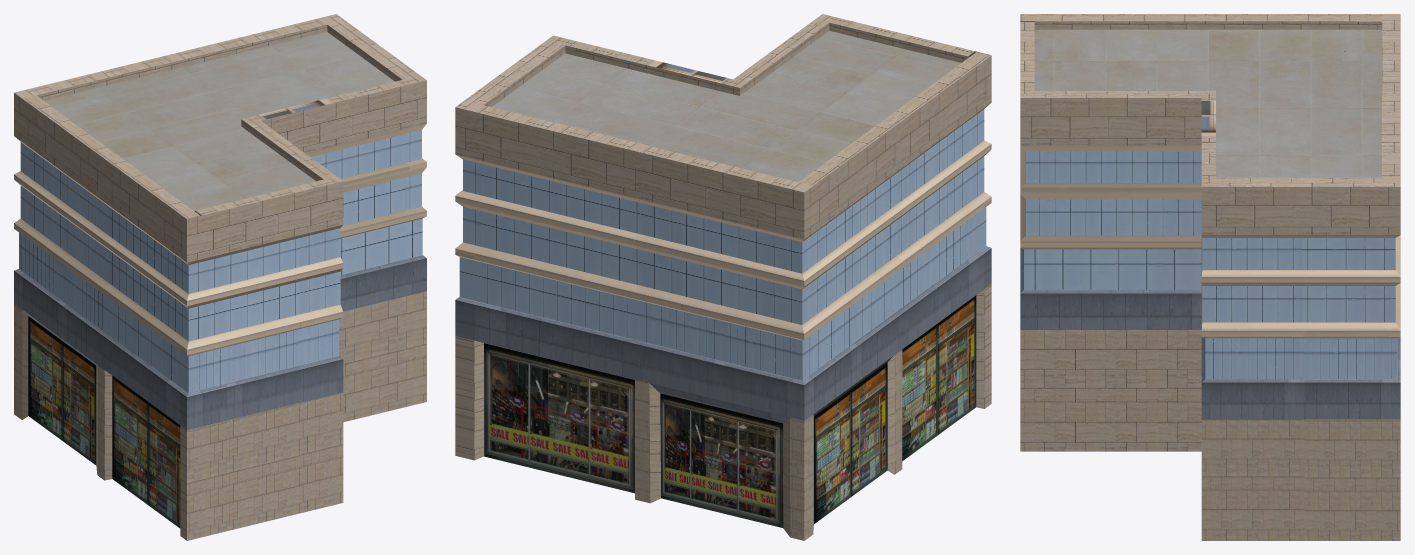
File: Pizza_Delivery house16_7.fbx
3 views of the same model, side by side, from view 1: azimuth 30°, elevation 25°; view 2: azimuth 150°, elevation 25°; view 3: azimuth 270°, elevation 25° (orthographic). The views are drawn at different scales.
Visible parts, largest first — view 1: Pizza_Delivery:Pizza_Delivery:house16_7; view 2: Pizza_Delivery:Pizza_Delivery:house16_7; view 3: Pizza_Delivery:Pizza_Delivery:house16_7.
Boxes of the visible parts, box(x1,y1,x2,y2) form: Pizza_Delivery:Pizza_Delivery:house16_7: box(14, 14, 426, 540); Pizza_Delivery:Pizza_Delivery:house16_7: box(455, 14, 991, 540); Pizza_Delivery:Pizza_Delivery:house16_7: box(1020, 14, 1400, 540).
Bounding box in the file's own units: 16.08 × 15.34 × 14.95.
